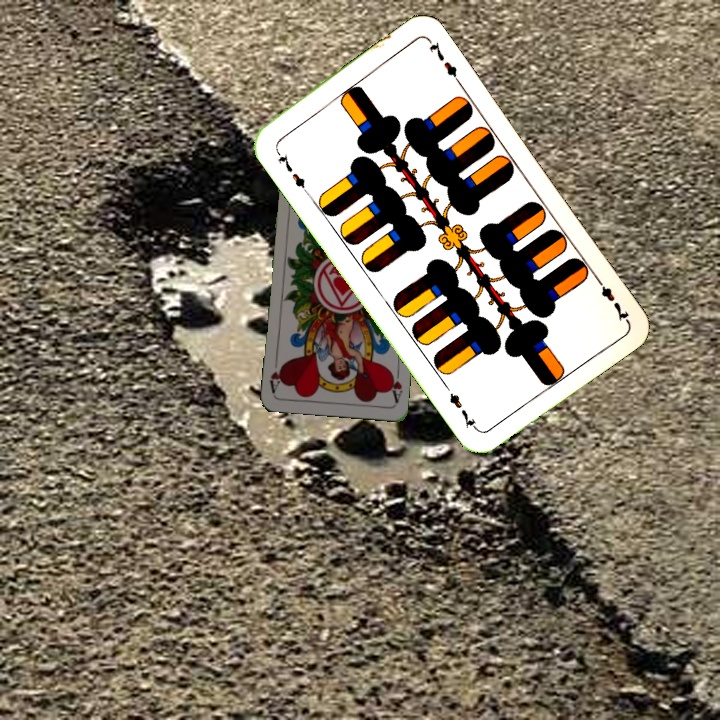E7: (591, 272, 632, 324), (271, 144, 311, 196)
HA: (385, 365, 405, 405)
